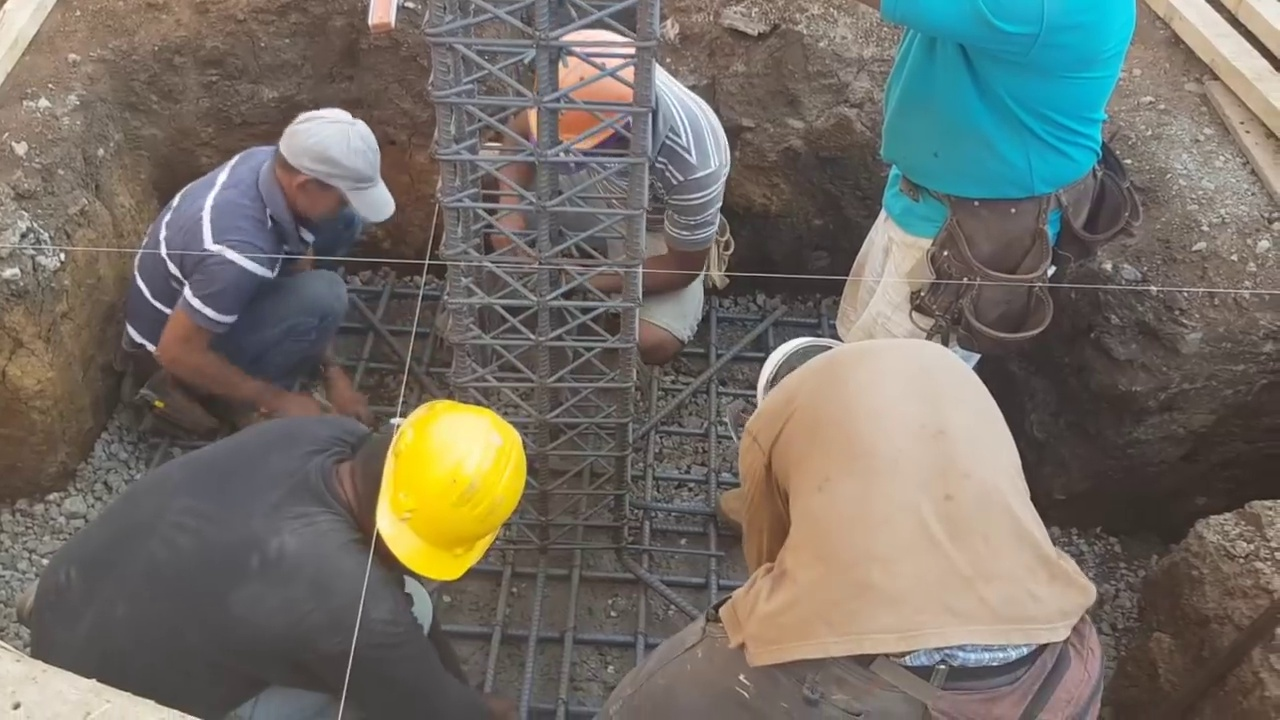helmet: (373, 405, 530, 580), (521, 28, 654, 169), (527, 29, 643, 153)
helmet-off: (266, 107, 390, 238)
helmet-on: (357, 403, 528, 597), (754, 328, 844, 402)
person: (601, 319, 1107, 712), (0, 392, 566, 700), (839, 3, 1151, 348), (120, 96, 393, 443), (494, 0, 740, 362)
